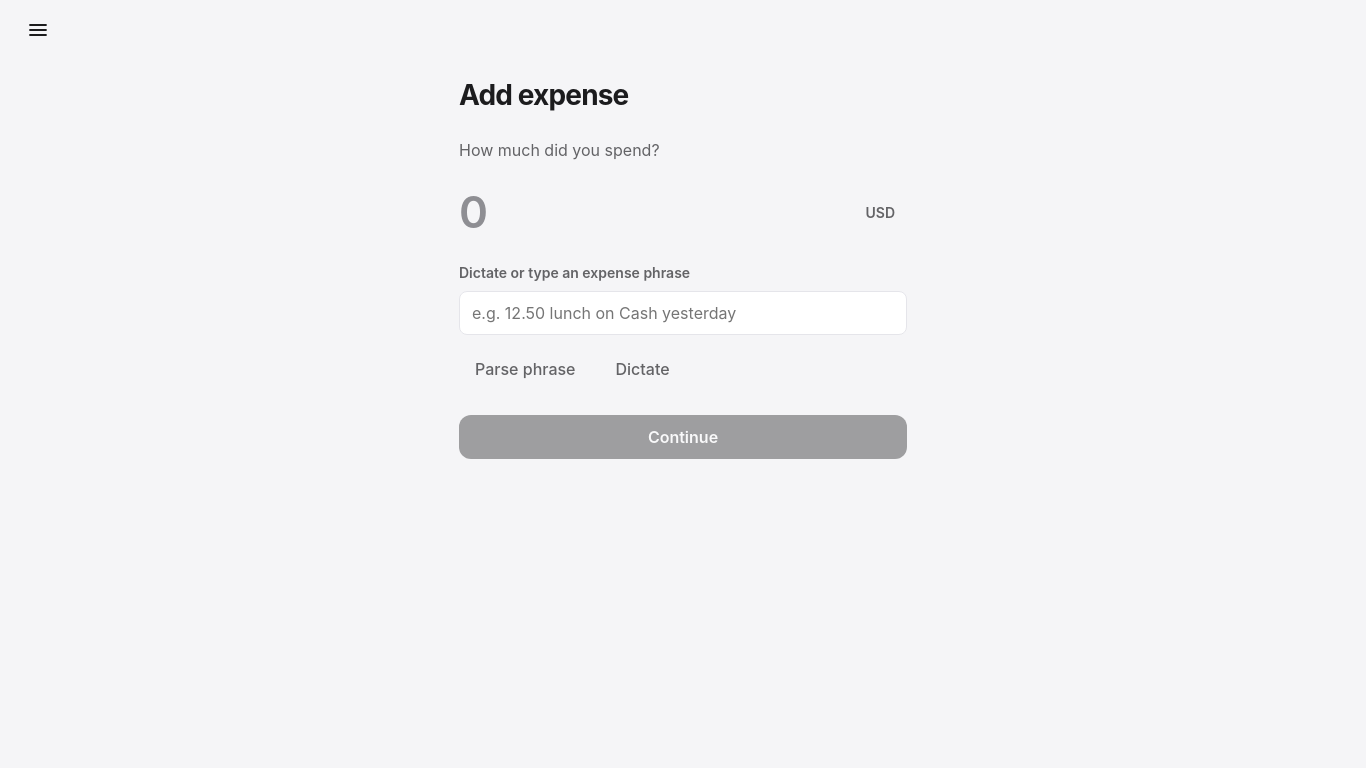
App shell › returns to expense entry from the drawer Add Expense item
The image size is (1366, 768).
Expected: the field named "how much did you spend" is shown, [459,174,846,251]
Click the button named "open menu" at (38, 30), box [16,8,60,52]
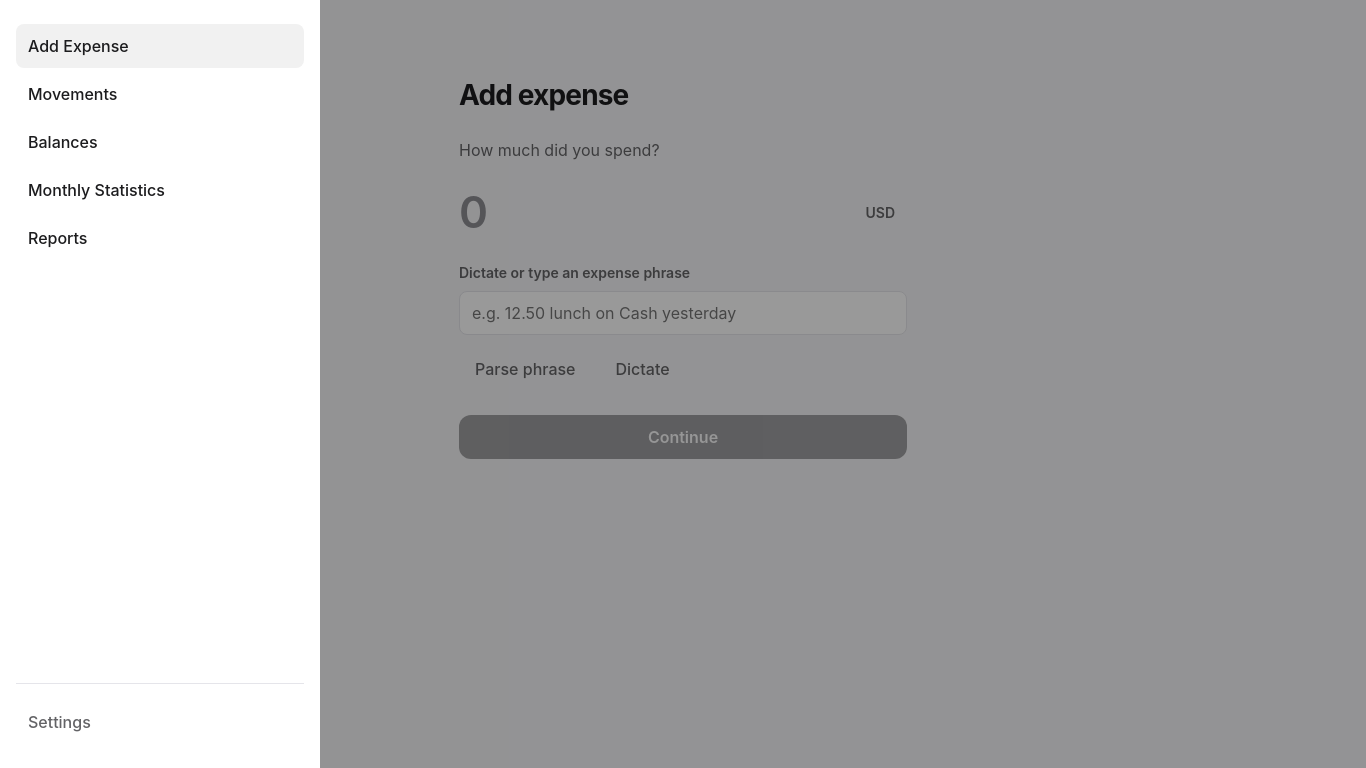
Click the link "Movements" at (73, 94), box [28,84,117,104]
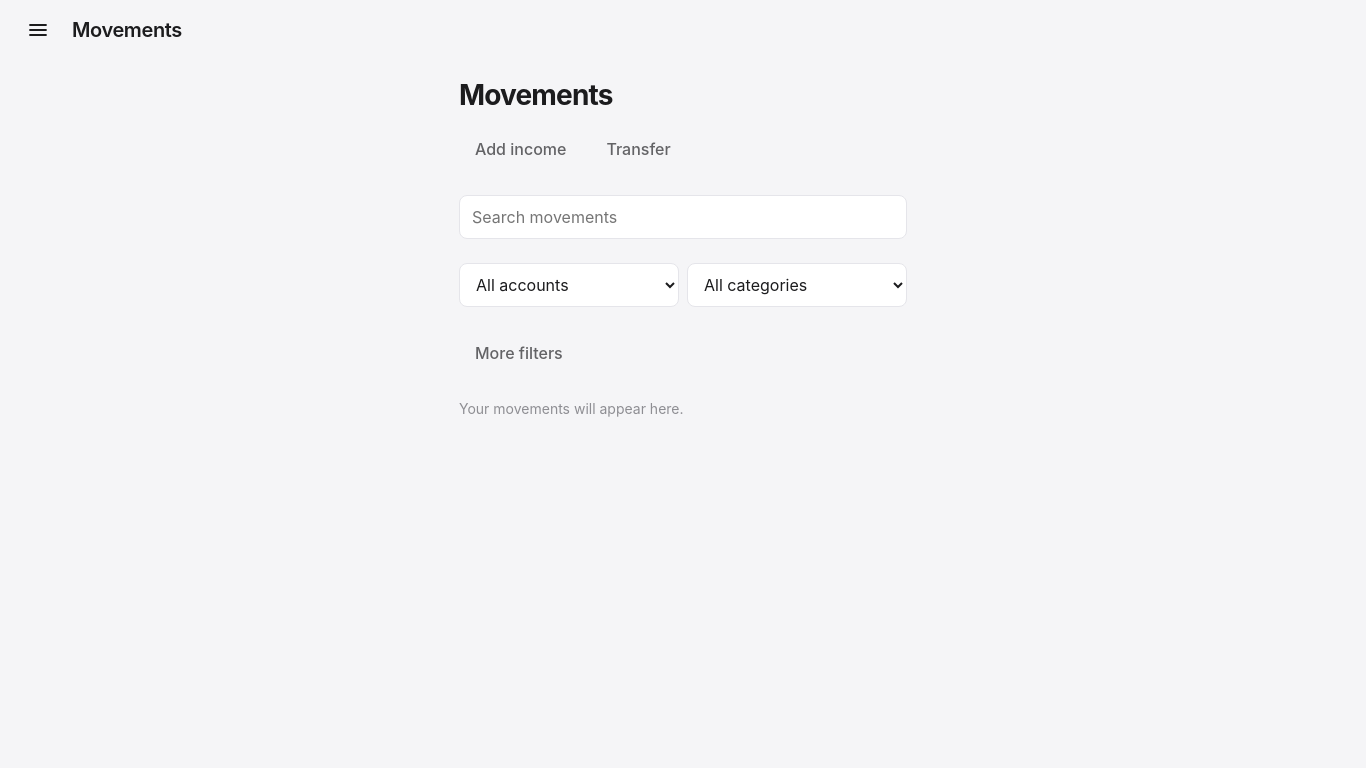
Expected: the 1st heading "Movements" is shown, [72,16,182,44]
Click the button named "open menu" at (38, 30), box [16,8,60,52]
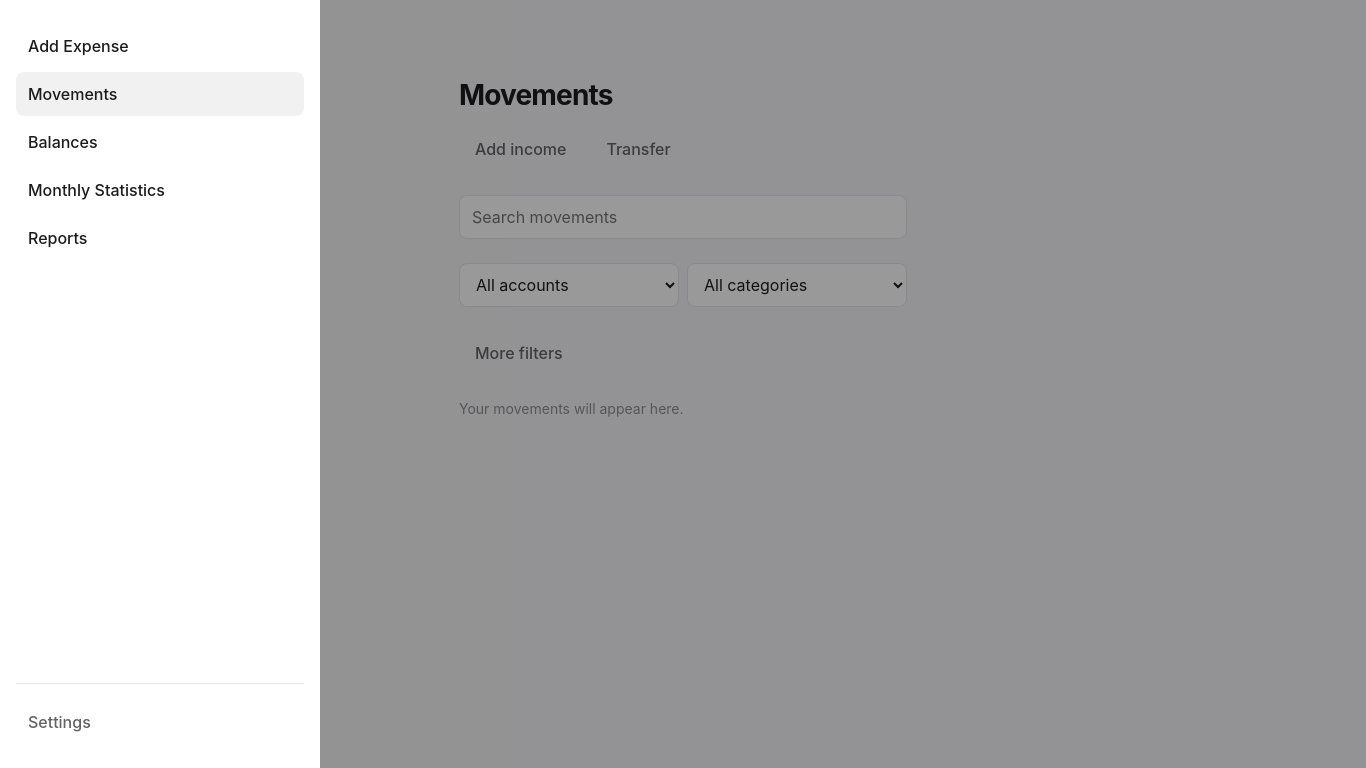
Click the link "Add Expense" at (78, 46), box [28,36,129,56]
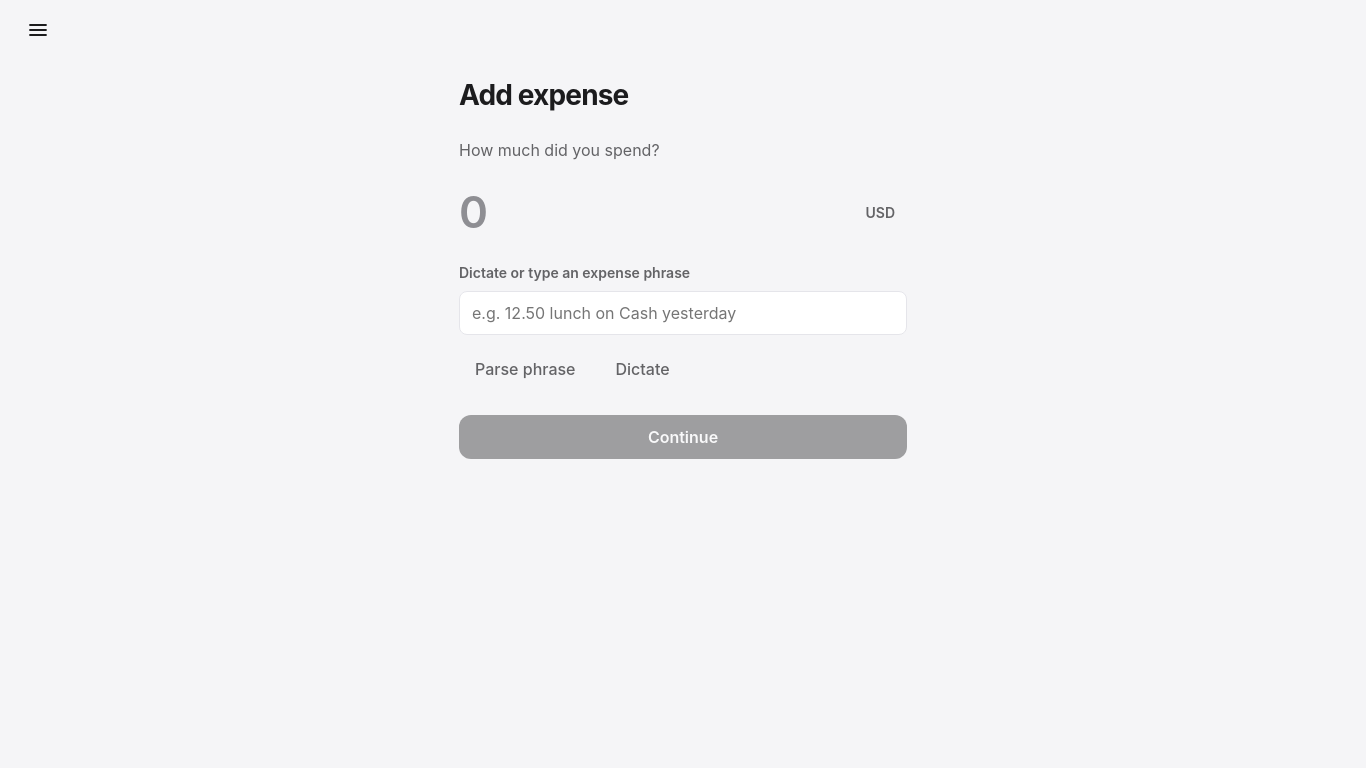
Expected: the field named "how much did you spend" is shown, [459,174,846,251]
